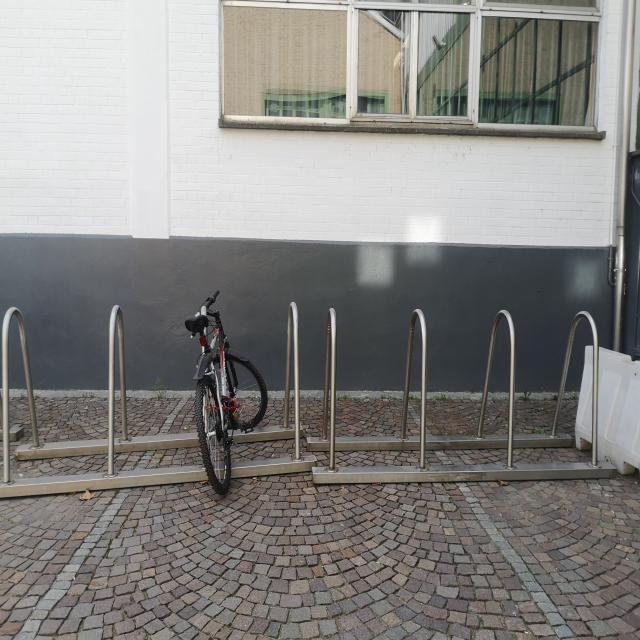Bicycle: (184, 290, 276, 496)
